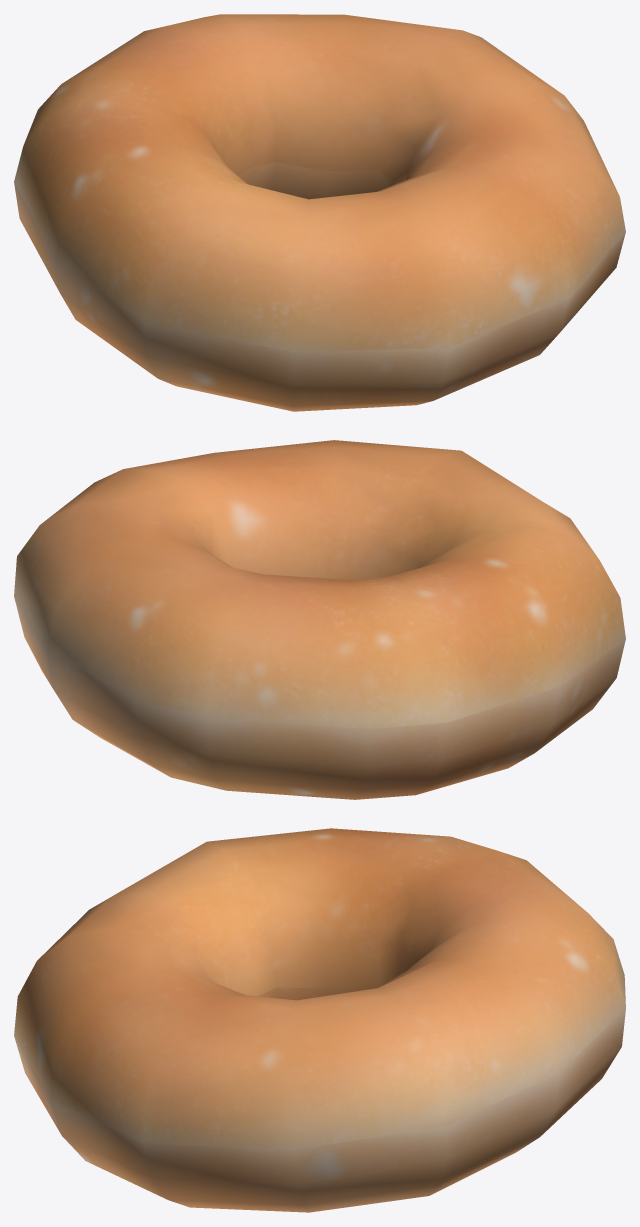
The model's file is Donut5LP.obj.
The picture shows the model from 3 angles, top to bottom: view 1: azimuth 30°, elevation 25°; view 2: azimuth 150°, elevation 25°; view 3: azimuth 270°, elevation 25°; orthographic projection.
Parts seen in each view (by area): view 1: donut066; view 2: donut066; view 3: donut066.
Boxes of the visible parts, x1=… form: donut066: x1=14, y1=14, x2=625, y2=411; donut066: x1=14, y1=440, x2=625, y2=799; donut066: x1=14, y1=828, x2=625, y2=1212.
Size of the model in its own units: 9.42 by 3.94 by 9.78.
Materials: 1 (1 with a texture image).
